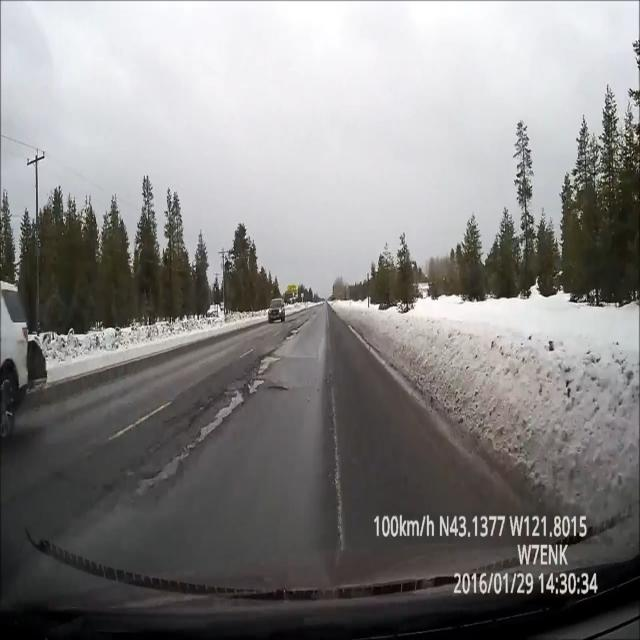Pothole: (233, 344, 284, 401), (190, 391, 237, 445), (142, 444, 190, 484)
